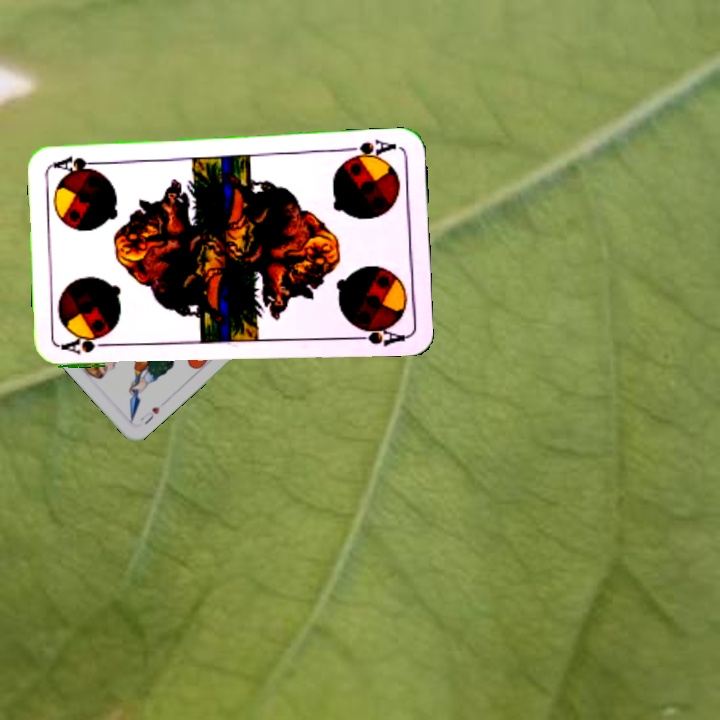HU: (136, 402, 163, 428)
SA: (341, 135, 399, 163), (58, 331, 117, 357)
